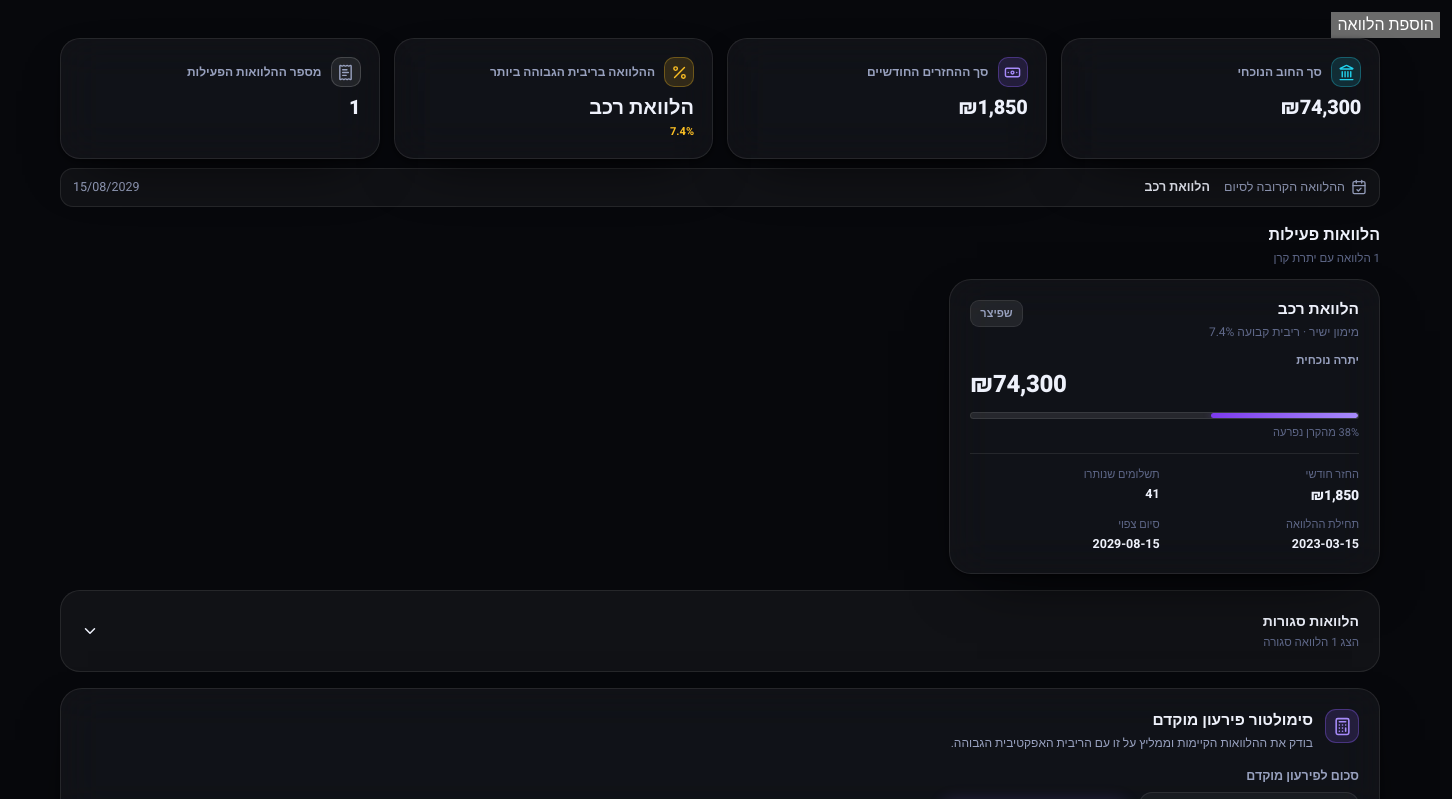
loans loading, summary, and cards › excludes paid loans from active KPIs and groups them in a collapsed closed section
The width and height of the screenshot is (1452, 799).
Expected: the text "₪1,850" below "סך ההחזרים החודשיים" is shown, [959, 97, 1028, 119]
Expected: the text "1" is shown, [349, 97, 360, 119]
Click the button "הלוואות סגורות הצג 1 הלוואה סגורה".
click(1311, 622)  # box [75, 605, 1365, 657]
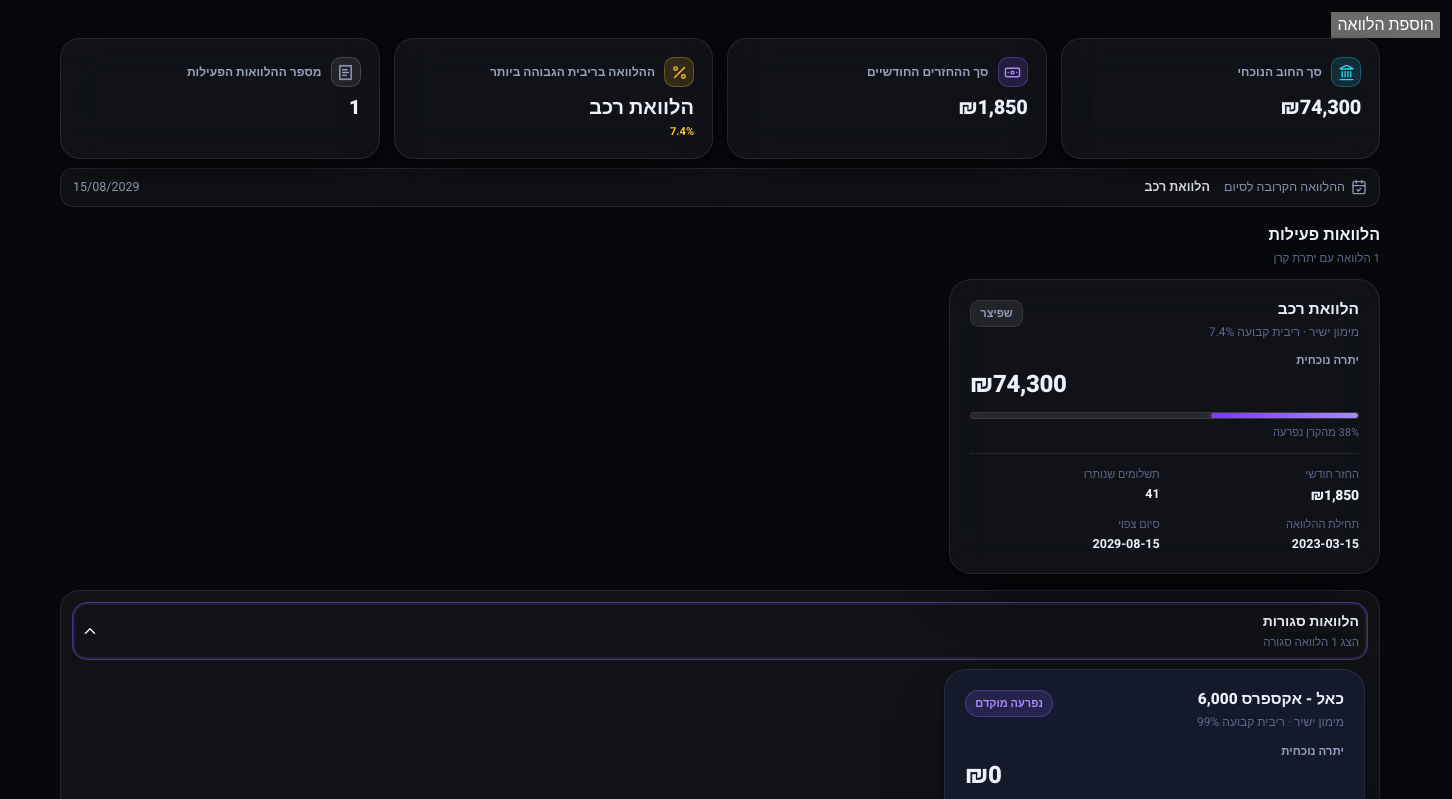
Expected: the button "הלוואות סגורות הצג 1 הלוואה סגורה" is expanded
Expected: the text "נפרעה מוקדם" is shown, [965, 690, 1053, 717]
Click the button "הלוואות סגורות הצג 1 הלוואה סגורה".
click(1311, 622)  # box [75, 605, 1365, 657]
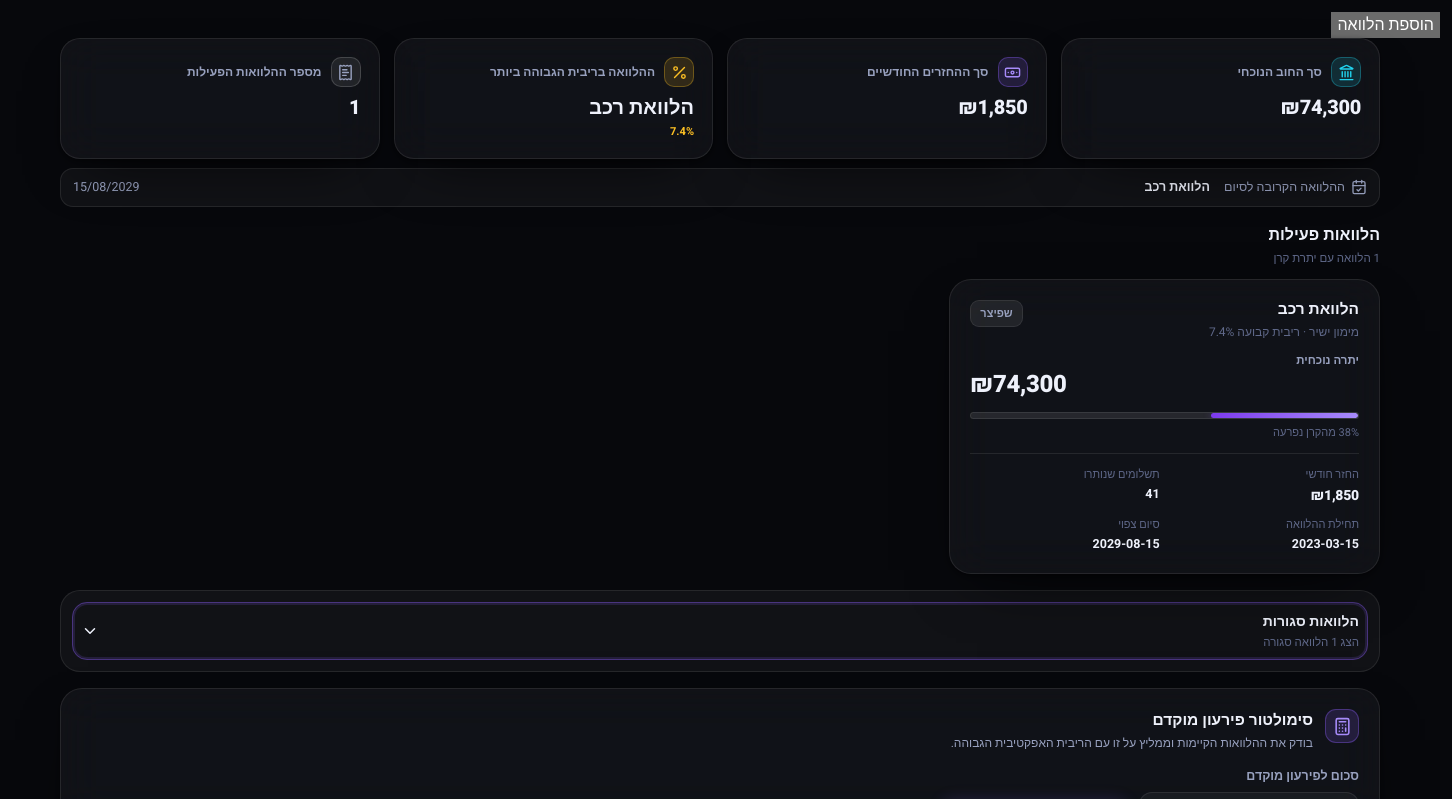
Expected: the button "הלוואות סגורות הצג 1 הלוואה סגורה" is collapsed, [75, 605, 1365, 657]
